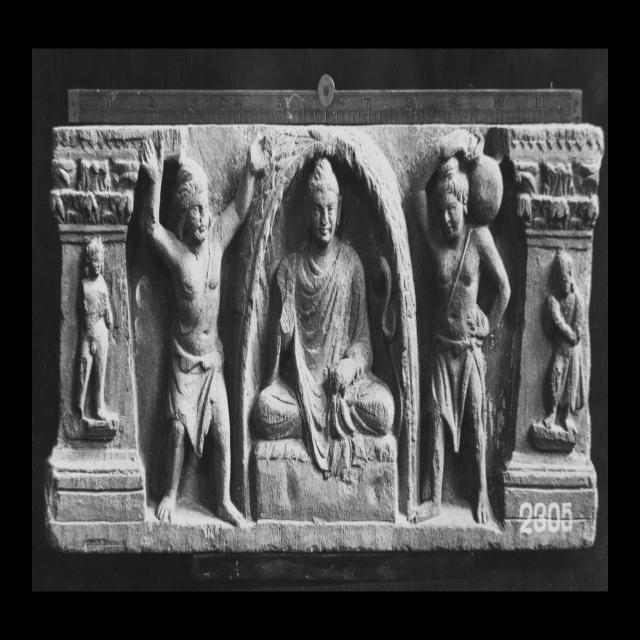buddha-sitting: (252, 158, 395, 480)
